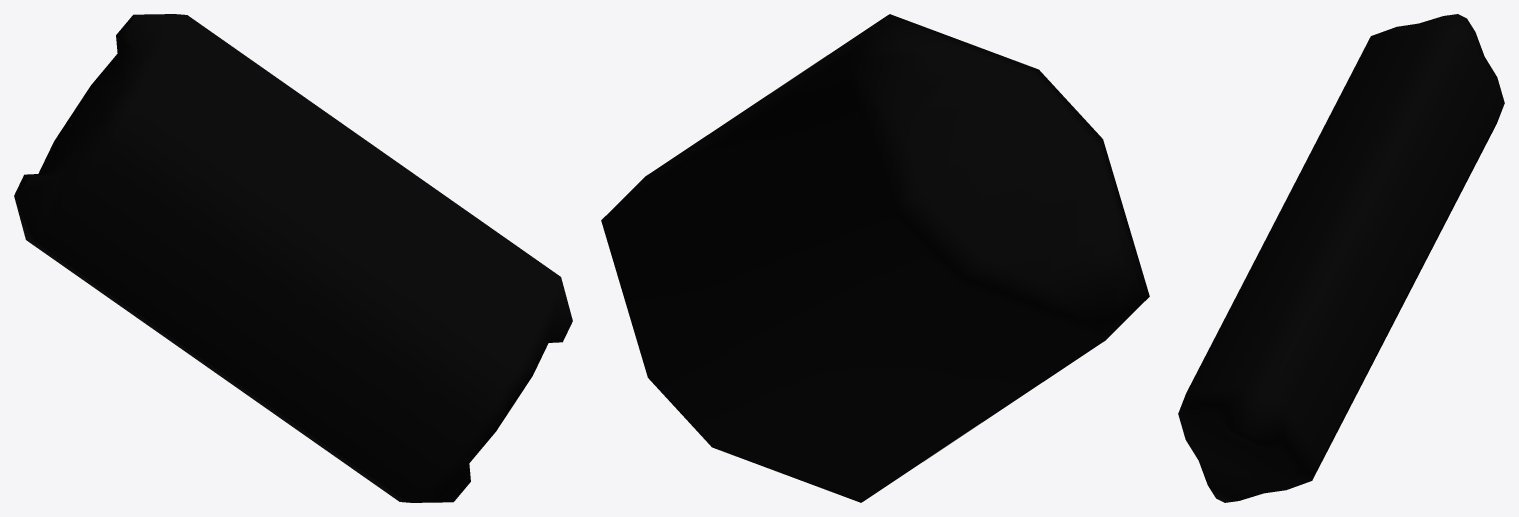
Rendered from hgn_collectable_loot_03.glb.
3 renders of one model, left to right at view 1: azimuth 30°, elevation 25°; view 2: azimuth 150°, elevation 25°; view 3: azimuth 270°, elevation 25°, orthographic. The views are drawn at different scales.
Visible parts, largest first — view 1: loot_container_02b; view 2: loot_container_02b; view 3: loot_container_02b.
Part boxes in pixels (<box>): loot_container_02b: <box>14,14,572,502</box>; loot_container_02b: <box>601,14,1149,502</box>; loot_container_02b: <box>1178,14,1504,502</box>.
Bounding box in the file's own units: 0.8727 × 0.8156 × 0.5904.
1 material, 1 textured.
